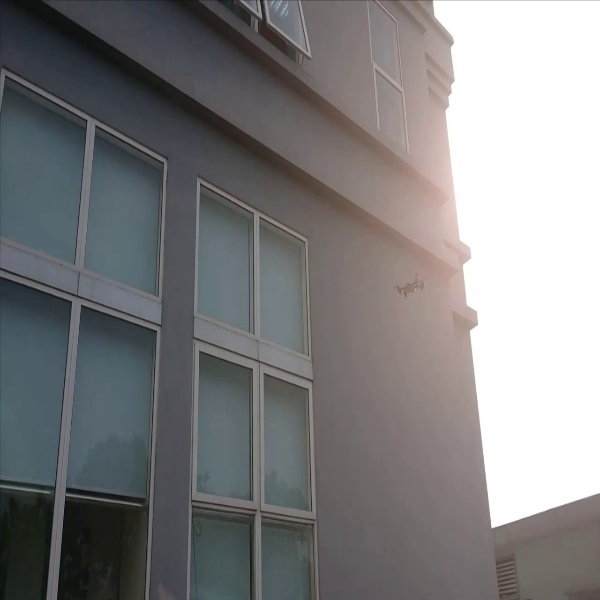drone: (392, 267, 433, 309)
